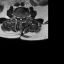CCS_normal: (20, 15, 21, 21)
LFS_stenosis: (23, 15, 24, 19)
LLS_stenosis: (21, 15, 23, 19)
RFS_stenosis: (17, 15, 19, 19)
RLS_stenosis: (18, 15, 20, 19)
